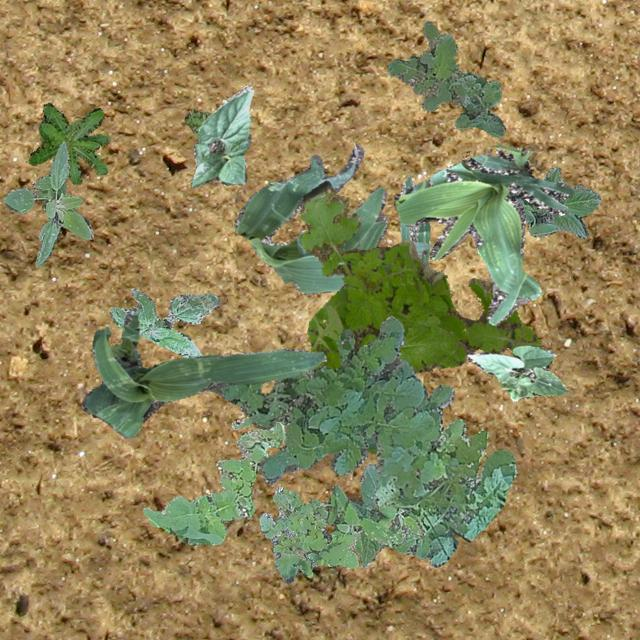crop: (392, 143, 574, 324), (232, 142, 432, 294), (81, 314, 325, 436), (514, 165, 600, 238), (190, 85, 252, 186), (466, 344, 566, 400), (346, 462, 394, 566), (398, 174, 428, 266), (363, 433, 375, 448)
weed: (207, 314, 516, 566), (298, 180, 540, 452), (142, 416, 284, 544), (386, 20, 504, 136), (2, 140, 92, 266), (258, 486, 358, 582), (308, 484, 424, 554), (109, 288, 218, 357), (28, 102, 110, 182), (183, 108, 210, 136)
